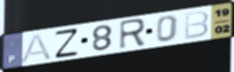0: (154, 14, 180, 44)
8: (91, 24, 114, 53)
A: (20, 32, 54, 64)
B: (183, 9, 211, 41)
R: (118, 17, 148, 51)
Z: (53, 26, 80, 60)
